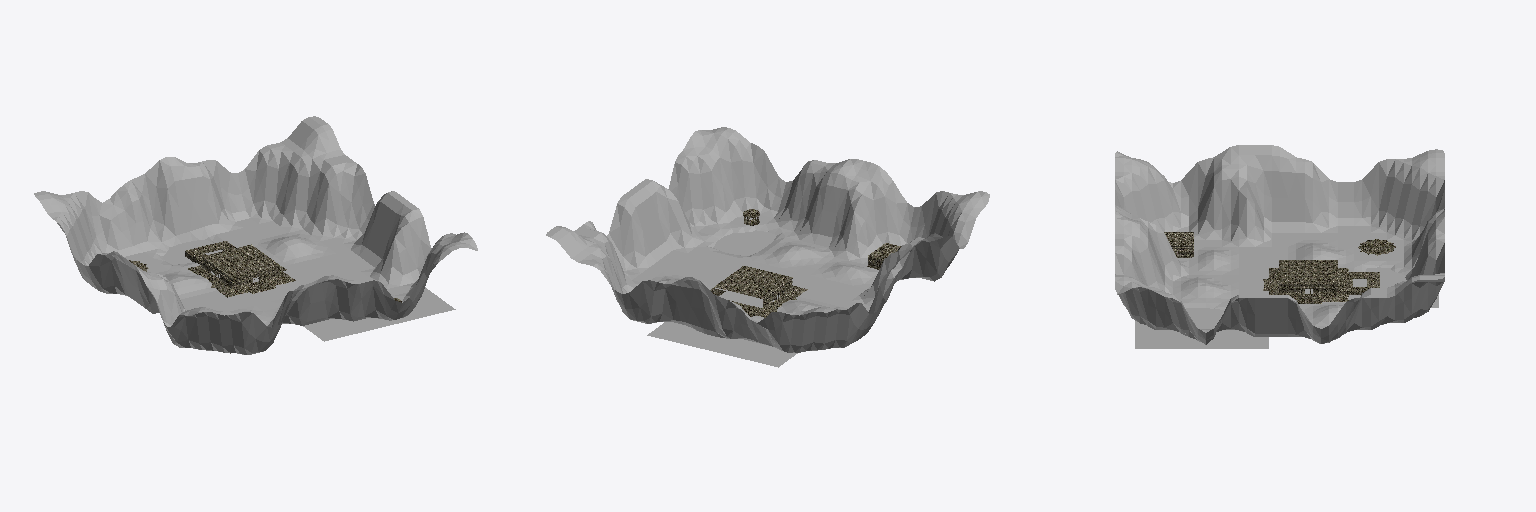
3 renders of one model, left to right at view 1: azimuth 30°, elevation 25°; view 2: azimuth 150°, elevation 25°; view 3: azimuth 270°, elevation 25°, orthographic.
Visible parts, largest first — view 1: Plane4, Temple_Corner_Piece_000, Plane, default, Plane1; view 2: Plane4, Plane1, Temple_Corner_Piece_000, Plane; view 3: Plane4, Plane, Temple_Corner_Piece_000, default.
Boxes of the visible parts, box(x1,y1,x2,y2) form: Plane4: box(34, 116, 477, 354); Temple_Corner_Piece_000: box(202, 244, 280, 288); Plane: box(303, 287, 455, 341); default: box(188, 260, 295, 297); Plane1: box(162, 240, 213, 264); Plane4: box(546, 127, 989, 352); Plane1: box(647, 322, 797, 367); Temple_Corner_Piece_000: box(714, 266, 792, 309); Plane: box(713, 230, 776, 255); Plane4: box(1115, 145, 1444, 344); Plane: box(1135, 308, 1268, 348); Temple_Corner_Piece_000: box(1279, 260, 1338, 294); default: box(1263, 268, 1348, 303).
Size of the model in its own units: 95.39 by 29.31 by 95.39.
Materials: 5 (1 with a texture image).